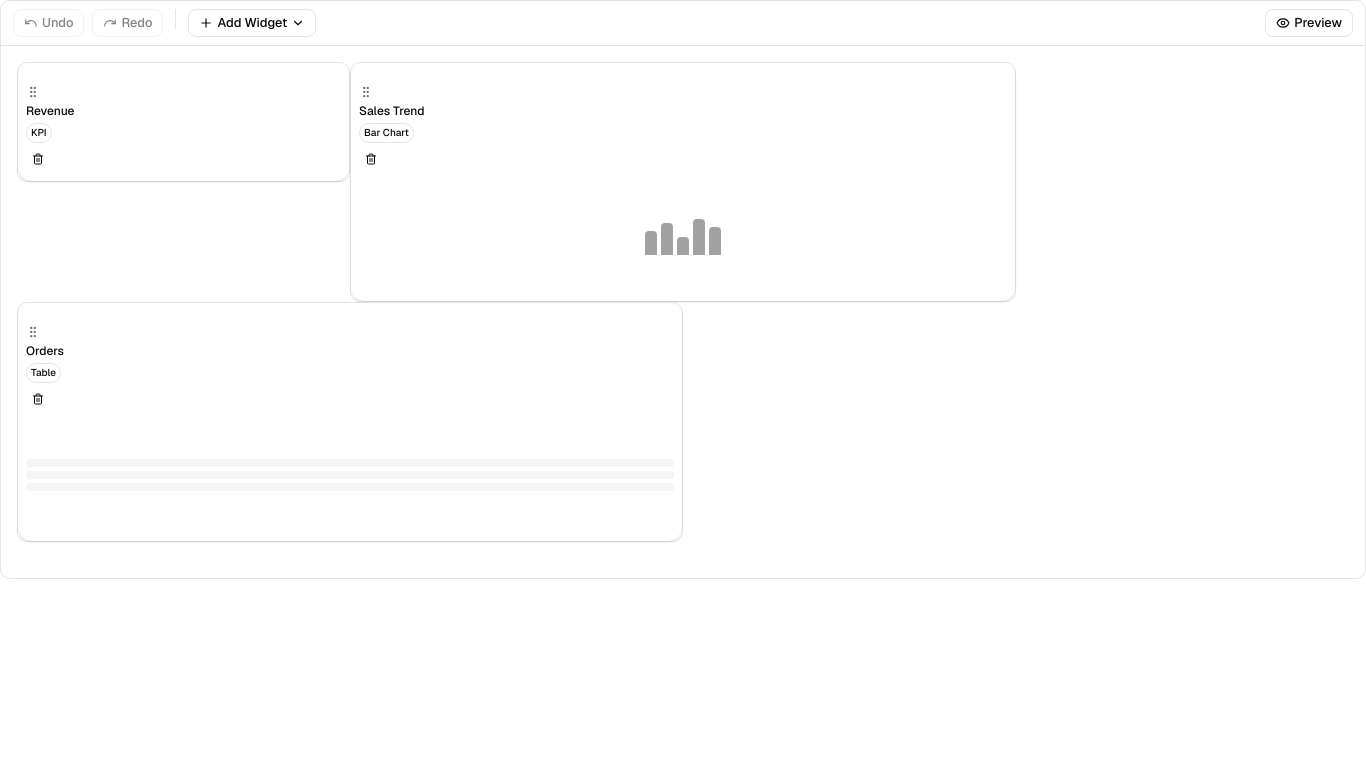
Scenario: DashboardDesigner › preview mode hides editing controls
Click the button with test id "preview-button": (1309, 23) [1265,9,1353,37]
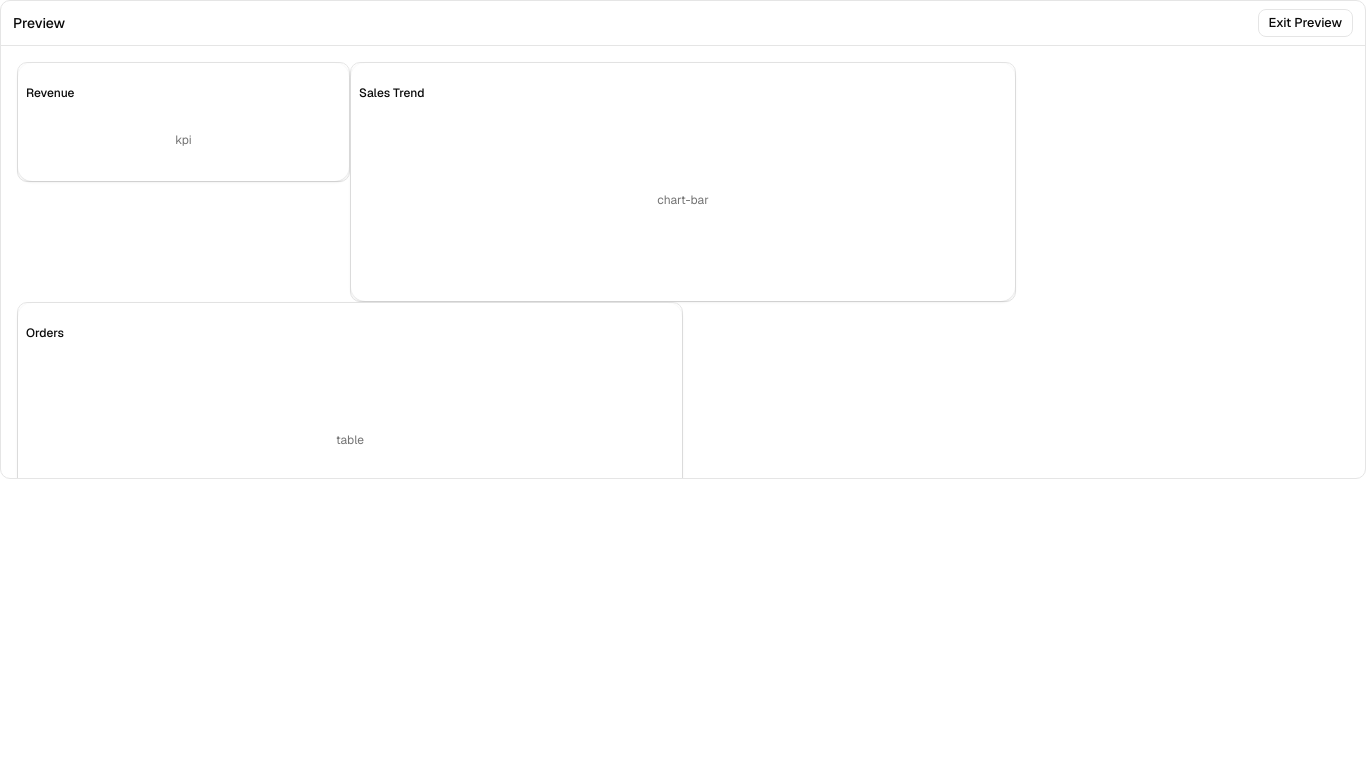
Expected: the button with test id "delete-widget-w1" is gone
Expected: the button with test id "exit-preview-button" is shown, [1258,9,1353,37]
